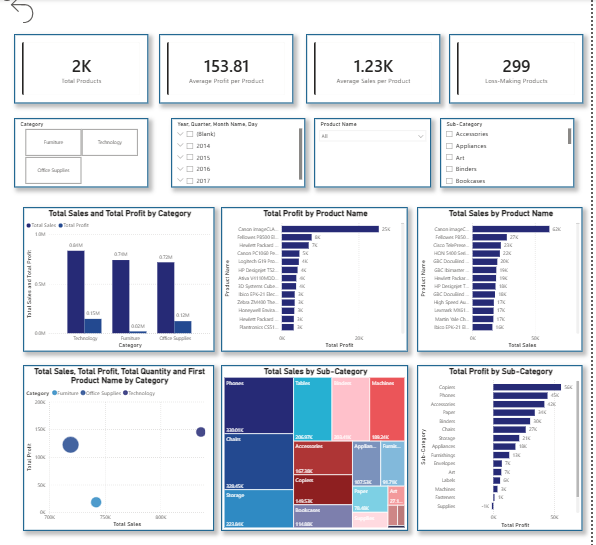

The page's visual inventory and layout, read from the dashboard file:
{"tool":"powerbi","page":{"name":"Product Analysis","canvas":[1480,1400],"ordinal":2},"visuals":[{"type":"cardVisual","fields":{"Data":["_Measures.Loss-Making Products"]},"box":[1123.8,116.7,335.7,173.8],"z":0},{"type":"cardVisual","fields":{"Data":["_Measures.Average Profit per Product"]},"box":[400,116.7,335.7,173.8],"z":1000},{"type":"cardVisual","fields":{"Data":["_Measures.Average Sales per Product"]},"box":[766.7,116.7,335.7,173.8],"z":2000},{"type":"cardVisual","fields":{"Data":["_Measures.Total Products"]},"box":[38.1,116.7,335.7,173.8],"z":3000},{"type":"barChart","fields":{"Category":["Dim_Product.Product Name"],"Y":["_Measures.Total Sales"]},"box":[1045.2,550,414.3,361.9],"z":4000},{"type":"barChart","fields":{"Y":["_Measures.Total Profit"],"Category":["Dim_Product.Product Name"]},"box":[554.8,550,466.7,361.9],"z":5000},{"type":"clusteredColumnChart","fields":{"Y":["_Measures.Total Sales","_Measures.Total Profit"],"Category":["Dim_Product.Category"]},"box":[59.5,550,478.6,361.9],"z":6000},{"type":"treemap","fields":{"Values":["_Measures.Total Sales"],"Group":["Dim_Product.Sub-Category"]},"box":[555,945,467.5,415],"z":7000},{"type":"scatterChart","fields":{"X":["_Measures.Total Sales"],"Y":["_Measures.Total Profit"],"Size":["_Measures.Total Quantity"],"Series":["Dim_Product.Category"]},"box":[60,945,477.5,415],"z":8000},{"type":"actionButton","box":[16.7,16.7,133.3,81],"z":9000},{"type":"slicer","fields":{"Values":["Dim_Product.Sub-Category"]},"box":[1103.4,327.6,335.7,173.8],"z":10000},{"type":"slicer","fields":{"Values":["Dim_Product.Product Name"]},"box":[787.9,327.6,292.9,173.8],"z":11000},{"type":"slicer","fields":{"Values":["Dim_Product.Category"]},"box":[38.1,327.4,335.7,173.8],"z":12000},{"type":"slicer","fields":{"Values":["Dim_Date.Year","Dim_Date.Quarter","Dim_Date.Month Name","Dim_Date.Day"]},"box":[431,327.6,336,174],"z":13000},{"type":"barChart","fields":{"Category":["Dim_Product.Sub-Category"],"Y":["_Measures.Total Profit"]},"box":[1045,945,414,415],"z":14000},{"type":"actionButton","box":[0,0,100,40],"z":15000}]}

Visuals, with their boxes in screenshot pixels (x1, y1, x2, y2):
cardVisual - _Measures.Loss-Making Products: pyautogui.locateOnScreen(446, 34, 579, 103)
cardVisual - _Measures.Average Profit per Product: pyautogui.locateOnScreen(158, 34, 291, 103)
cardVisual - _Measures.Average Sales per Product: pyautogui.locateOnScreen(303, 34, 437, 103)
cardVisual - _Measures.Total Products: pyautogui.locateOnScreen(14, 34, 147, 103)
barChart - Dim_Product.Product Name x _Measures.Total Sales: pyautogui.locateOnScreen(414, 206, 579, 350)
barChart - _Measures.Total Profit x Dim_Product.Product Name: pyautogui.locateOnScreen(219, 206, 405, 350)
clusteredColumnChart - _Measures.Total Sales x _Measures.Total Profit: pyautogui.locateOnScreen(22, 206, 213, 350)
treemap - _Measures.Total Sales x Dim_Product.Sub-Category: pyautogui.locateOnScreen(219, 364, 405, 529)
scatterChart - _Measures.Total Sales x _Measures.Total Profit: pyautogui.locateOnScreen(22, 364, 212, 529)
actionButton: pyautogui.locateOnScreen(5, 0, 58, 26)
slicer - Dim_Product.Sub-Category: pyautogui.locateOnScreen(437, 118, 571, 187)
slicer - Dim_Product.Product Name: pyautogui.locateOnScreen(312, 118, 428, 187)
slicer - Dim_Product.Category: pyautogui.locateOnScreen(14, 118, 147, 187)
slicer - Dim_Date.Year x Dim_Date.Quarter: pyautogui.locateOnScreen(170, 118, 304, 187)
barChart - Dim_Product.Sub-Category x _Measures.Total Profit: pyautogui.locateOnScreen(414, 364, 579, 529)
actionButton: pyautogui.locateOnScreen(0, 0, 38, 3)
